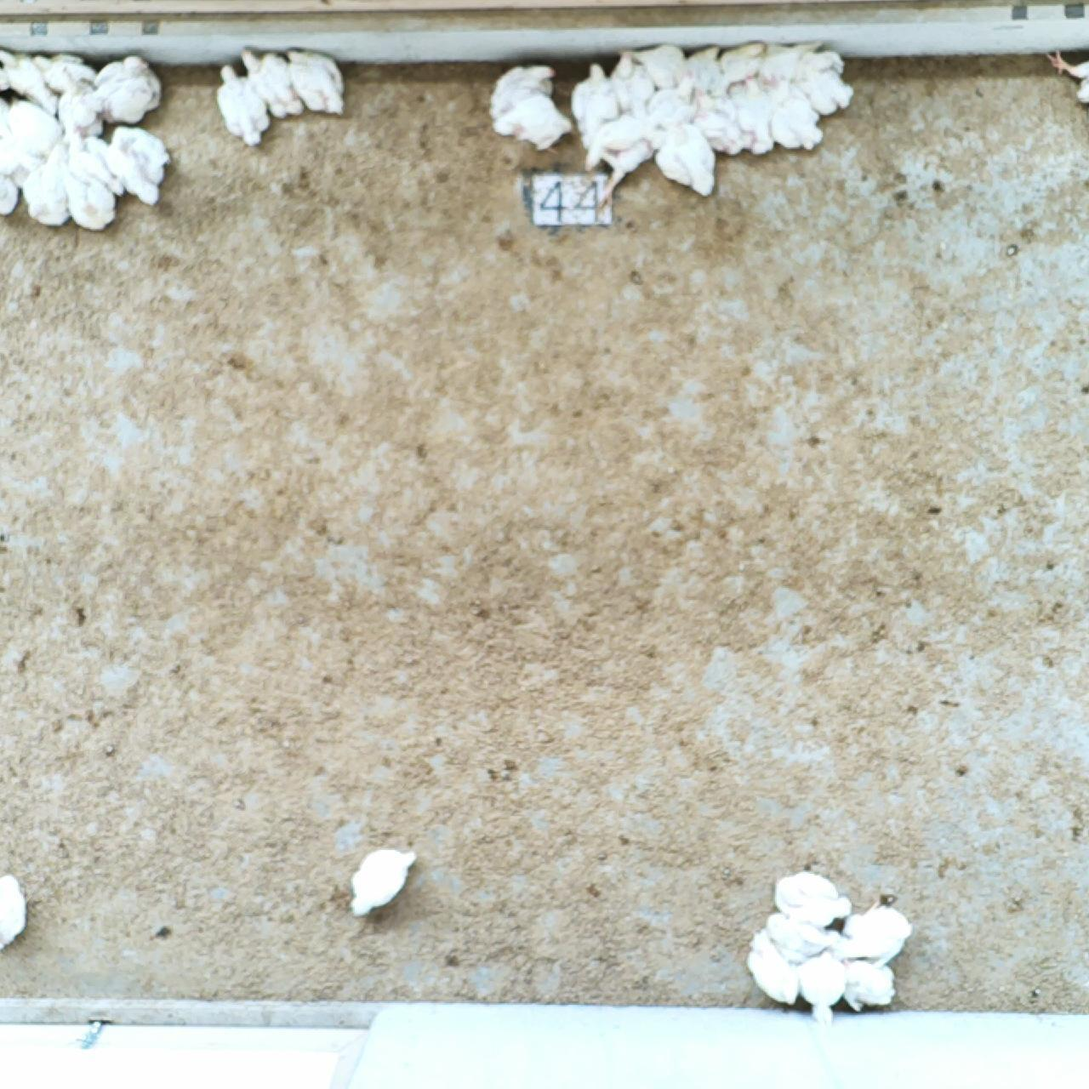chicken: (588, 122, 648, 212), (60, 128, 114, 226), (721, 75, 781, 157), (103, 132, 168, 206), (762, 78, 825, 151), (773, 870, 850, 929), (216, 65, 271, 146), (96, 57, 162, 123), (571, 66, 619, 155), (663, 123, 716, 202), (635, 48, 698, 114), (493, 62, 552, 132), (834, 955, 897, 1020), (839, 906, 910, 963), (351, 849, 413, 914), (748, 930, 800, 1007), (24, 151, 74, 231), (643, 80, 704, 145), (242, 51, 300, 117), (285, 48, 344, 112), (771, 43, 835, 102), (498, 98, 573, 148), (706, 43, 768, 102), (765, 915, 840, 962), (1, 111, 55, 175), (701, 94, 757, 155), (799, 950, 844, 1023), (27, 54, 98, 99), (615, 50, 659, 121), (55, 85, 107, 143), (1, 50, 51, 103), (687, 53, 731, 105), (1, 875, 25, 953)
